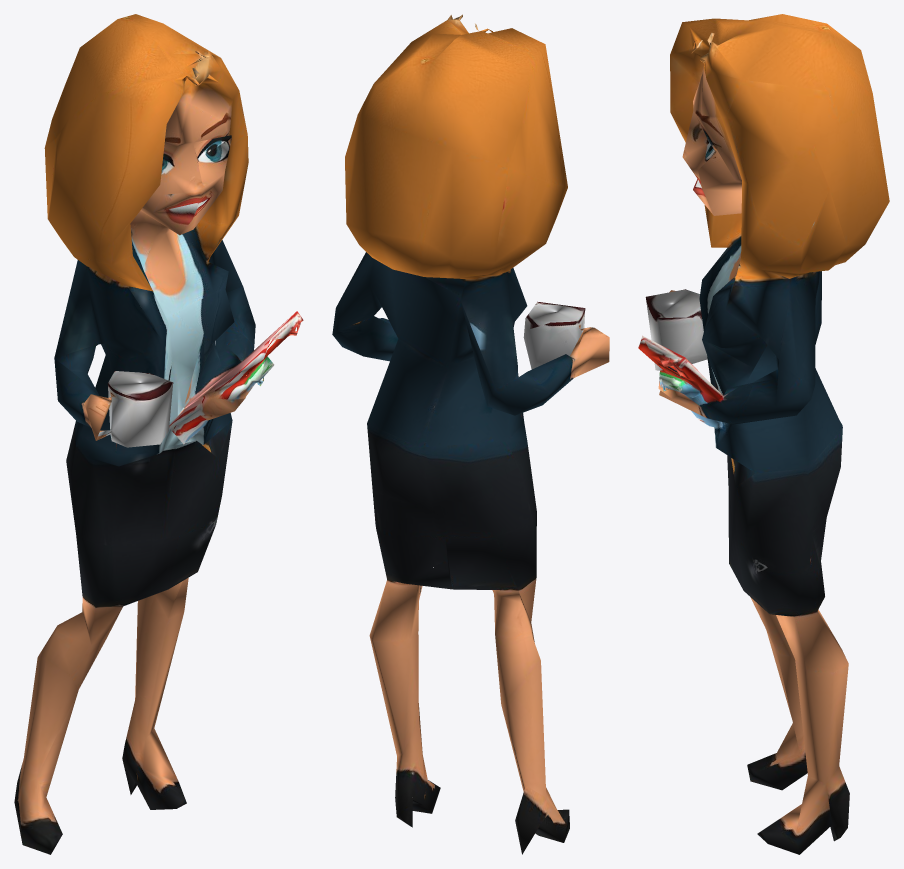
Rendered from lena_lowpoly_backup.glb.
The picture shows the model from 3 angles, left to right: view 1: azimuth 30°, elevation 25°; view 2: azimuth 150°, elevation 25°; view 3: azimuth 270°, elevation 25°; orthographic projection. The views are drawn at different scales.
Parts seen in each view (by area): view 1: tripo_node_67b84563-a688-4bc9-9790-fce54333f00b; view 2: tripo_node_67b84563-a688-4bc9-9790-fce54333f00b; view 3: tripo_node_67b84563-a688-4bc9-9790-fce54333f00b.
Part boxes in pixels (left/top/right/bottom): tripo_node_67b84563-a688-4bc9-9790-fce54333f00b: left=14, top=14, right=303, bottom=854; tripo_node_67b84563-a688-4bc9-9790-fce54333f00b: left=332, top=14, right=609, bottom=854; tripo_node_67b84563-a688-4bc9-9790-fce54333f00b: left=638, top=14, right=889, bottom=854.
Bounding box in the file's own units: 0.2971 × 0.9771 × 0.2717.
1 material, 1 textured.
